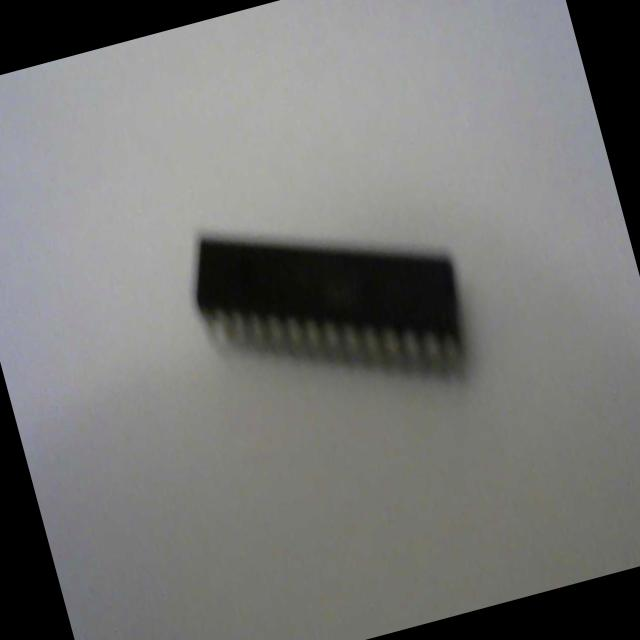atmega: (175, 166, 484, 440)
